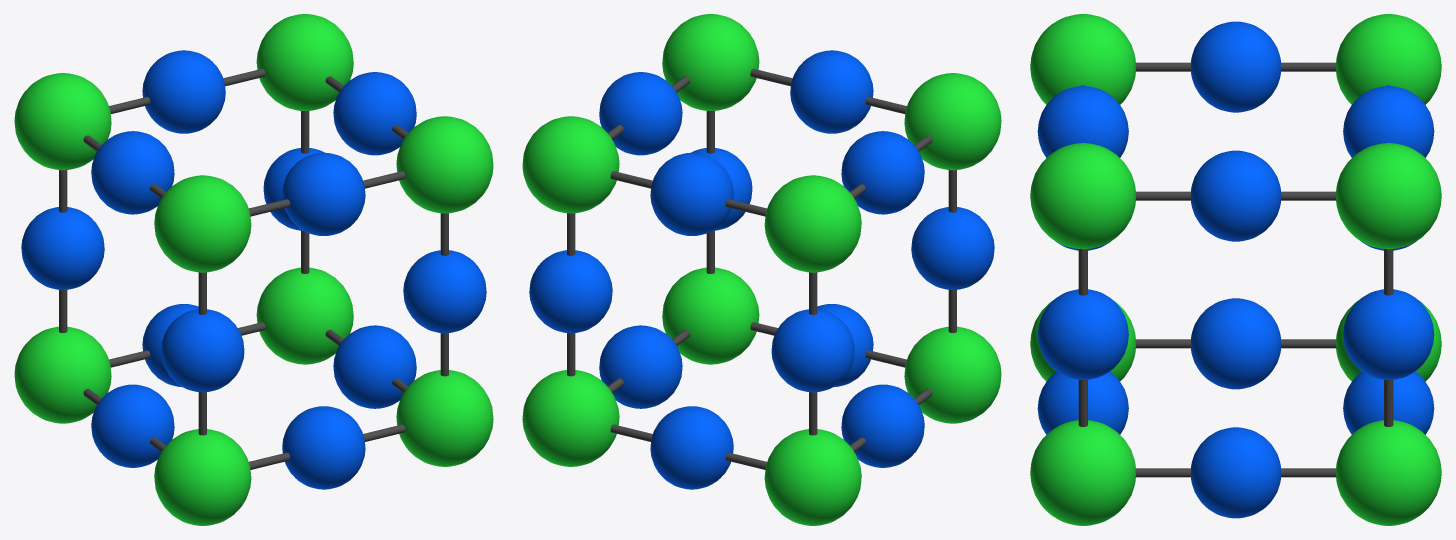
Rendered from EdgeCC.glb.
The picture shows the model from 3 angles, left to right: view 1: azimuth 30°, elevation 25°; view 2: azimuth 150°, elevation 25°; view 3: azimuth 270°, elevation 25°; orthographic projection. The views are drawn at different scales.
Parts seen in each view (by area): view 1: Sphere.025, Sphere.026, Sphere.022, Sphere.023, Sphere.020, Sphere.027, Sphere.021, Sphere.024, Sphere.009, Sphere.012, Sphere.015, Sphere.002 (+16 smaller); view 2: Sphere.020, Sphere.027, Sphere.021, Sphere.024, Sphere.025, Sphere.026, Sphere.022, Sphere.023, Sphere.008, Sphere.011, Sphere.014, Sphere.003 (+16 smaller); view 3: Sphere.021, Sphere.022, Sphere.023, Sphere.024, Sphere.020, Sphere.025, Sphere.028, Sphere.001, Sphere.010, Sphere.013, Sphere.011, Sphere.012 (+12 smaller).
Part boxes in pixels (x1,y1,x2,y2): Sphere.025: (154,175,251,272); Sphere.026: (154,429,251,525); Sphere.022: (396,116,493,213); Sphere.023: (396,370,493,466); Sphere.020: (14,73,111,170); Sphere.027: (14,326,111,423); Sphere.021: (256,14,353,110); Sphere.024: (256,267,353,364); Sphere.009: (161,309,244,392); Sphere.012: (403,250,486,333); Sphere.015: (282,406,365,489); Sphere.002: (142,50,225,133); Sphere.020: (764,175,861,272); Sphere.027: (764,429,861,525); Sphere.021: (522,116,619,213); Sphere.024: (522,370,619,466); Sphere.025: (904,73,1001,170); Sphere.026: (904,326,1001,423); Sphere.022: (662,14,759,110); Sphere.023: (662,267,759,364); Sphere.008: (771,309,854,392); Sphere.011: (529,250,612,333); Sphere.014: (650,406,733,489); Sphere.003: (790,50,873,133); Sphere.021: (1336,143,1441,249); Sphere.022: (1030,143,1135,249); Sphere.023: (1030,420,1135,525); Sphere.024: (1336,420,1441,525); Sphere.020: (1336,14,1441,104); Sphere.025: (1030,14,1135,104); Sphere.028: (1191,150,1280,241); Sphere.001: (1191,21,1280,112); Sphere.010: (1191,298,1280,389); Sphere.013: (1191,427,1280,518); Sphere.011: (1343,289,1434,379); Sphere.012: (1037,289,1128,379).
Size of the model in its own units: 2.7 by 2.7 by 2.7.
